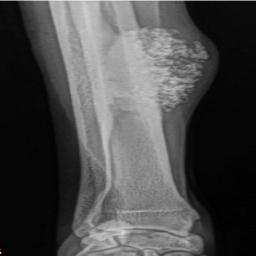cancer: (108, 27, 209, 115)
